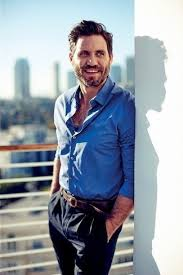F_belt: (51, 185, 120, 215)
F_shirt: (47, 88, 139, 198)
